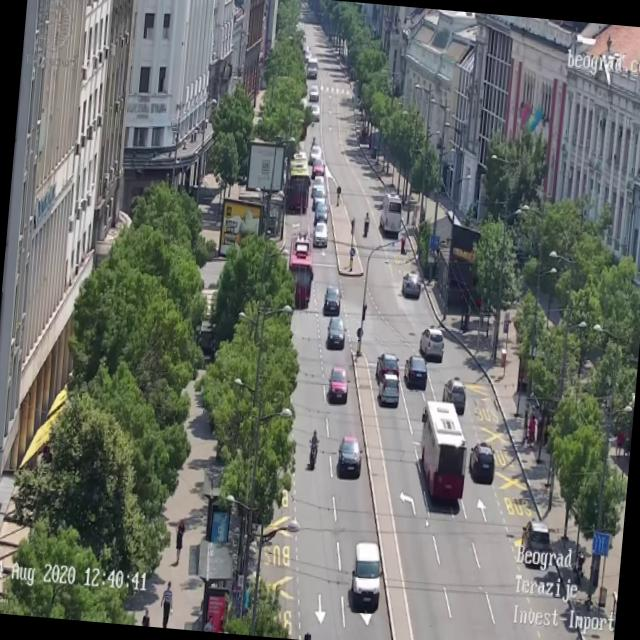bus: (414, 398, 471, 502), (286, 233, 315, 304), (283, 149, 310, 212), (378, 192, 403, 236)
car: (348, 540, 384, 613), (518, 519, 554, 569), (466, 440, 496, 484), (335, 434, 363, 479), (418, 324, 446, 369), (440, 375, 467, 415), (403, 350, 426, 390), (326, 366, 349, 404), (376, 372, 398, 408), (324, 315, 346, 349), (322, 284, 343, 317), (401, 271, 422, 299), (376, 354, 402, 374), (314, 218, 328, 248), (311, 200, 328, 224), (311, 182, 327, 202), (306, 58, 320, 78), (310, 86, 322, 108), (311, 170, 323, 190), (309, 147, 324, 163), (314, 160, 324, 174), (310, 105, 319, 118), (313, 94, 314, 95)
